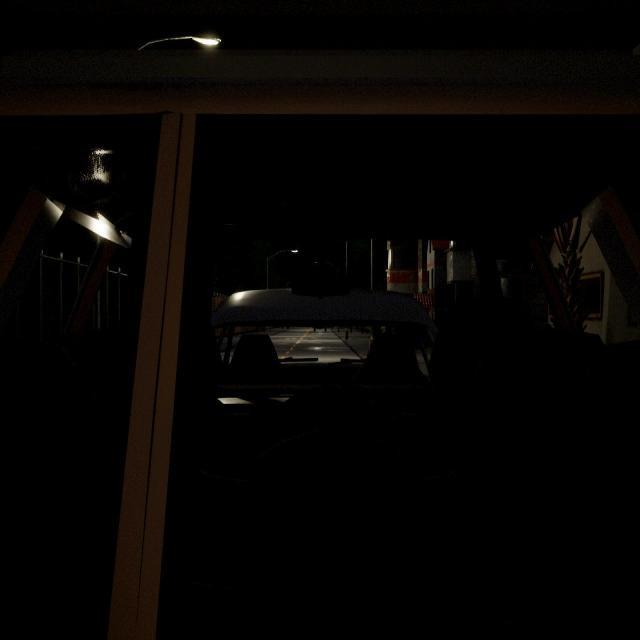Vehicle: (0, 49, 639, 638), (196, 287, 436, 410)
